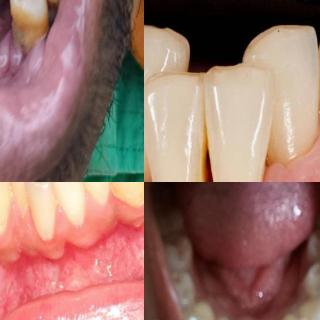calculus: (6, 8, 44, 56), (194, 121, 216, 182)
maligned: (242, 25, 320, 164), (206, 54, 268, 182), (144, 18, 188, 182), (146, 68, 206, 182), (22, 182, 59, 248), (49, 182, 94, 220), (3, 182, 42, 222), (77, 182, 115, 209), (108, 182, 144, 208), (0, 182, 14, 235), (282, 304, 308, 320)
plaque: (0, 208, 8, 245)
